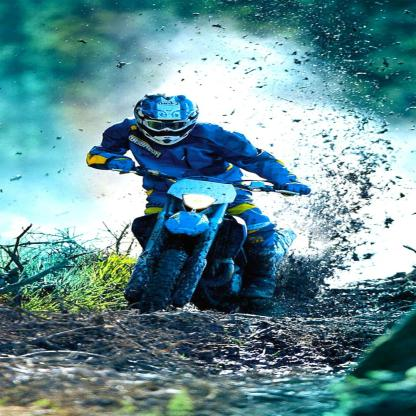bike: (117, 175, 316, 318)
